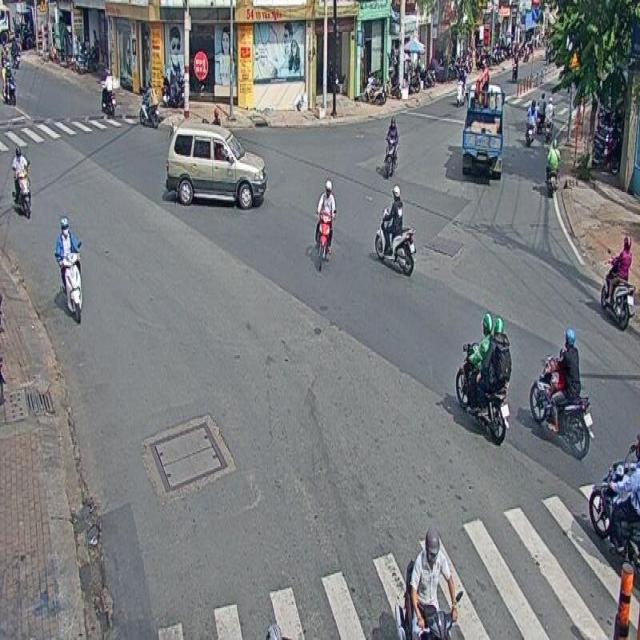car: (166, 122, 268, 210)
motorcycle: (529, 329, 591, 459), (455, 312, 510, 445), (588, 434, 640, 566), (405, 525, 460, 640), (374, 186, 416, 277), (600, 236, 634, 329), (54, 216, 82, 323), (315, 180, 336, 270), (11, 146, 31, 216), (384, 114, 398, 177), (546, 138, 559, 196)
